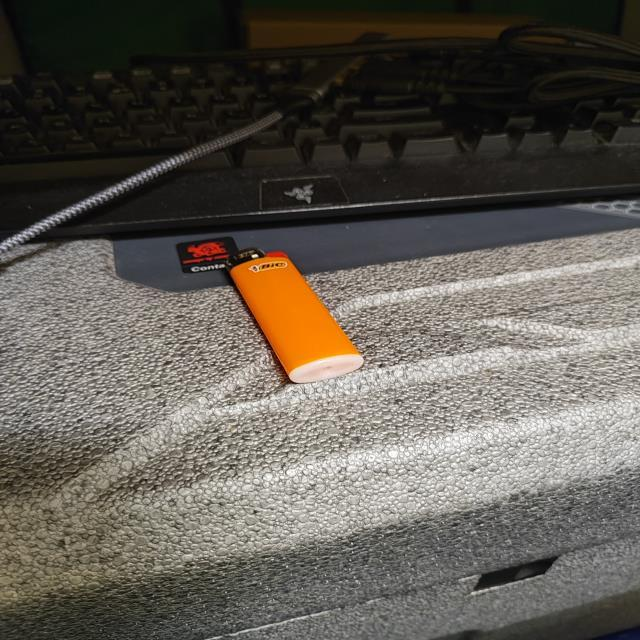lighter: (219, 246, 363, 381)
